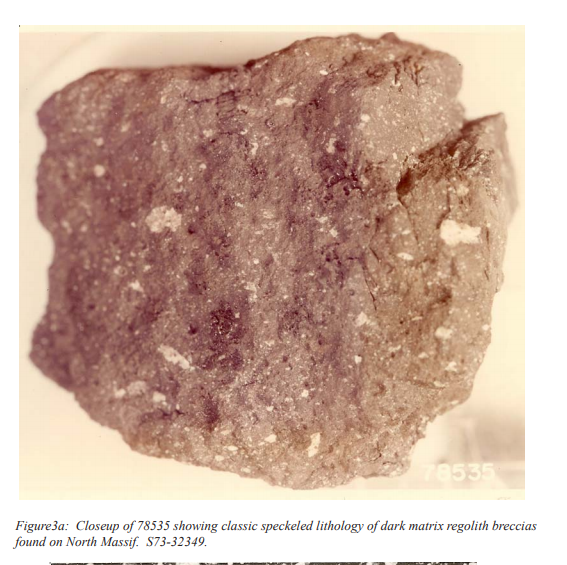Basalt: (39, 56, 529, 493), (246, 175, 428, 459)
